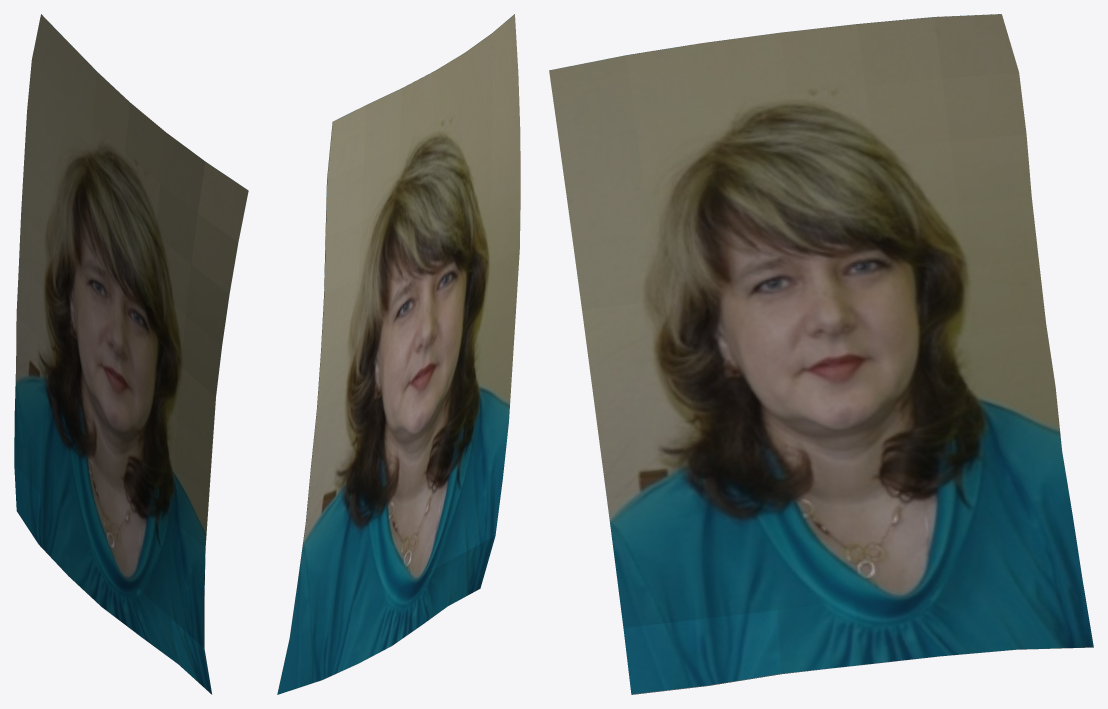
File: image2.fbx
3 views of the same model, side by side, from view 1: azimuth 30°, elevation 25°; view 2: azimuth 150°, elevation 25°; view 3: azimuth 270°, elevation 25° (orthographic). The views are drawn at different scales.
Parts seen in each view (by area): view 1: Image2; view 2: Image2; view 3: Image2.
Boxes of the visible parts, box(x1,y1,x2,y2) form: Image2: box(14, 14, 248, 694); Image2: box(277, 14, 520, 694); Image2: box(549, 14, 1093, 694).
Size of the model in its own units: 13.66 by 322 by 236.
1 material, 1 textured.
